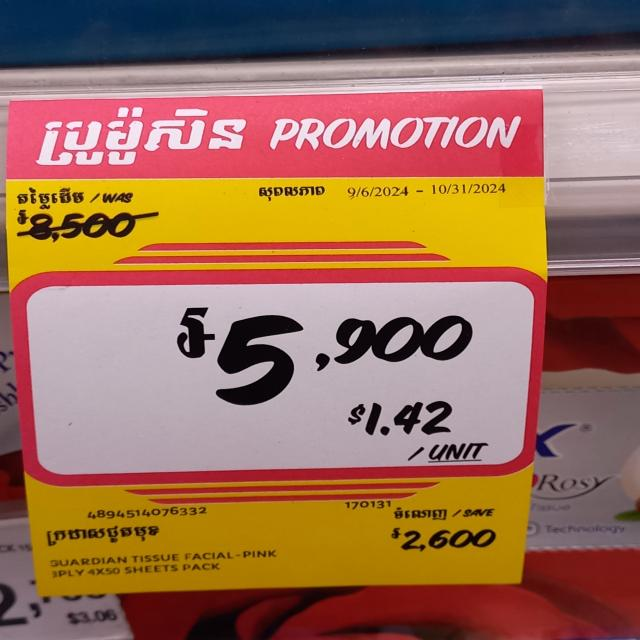521: (356, 395, 458, 440)
611: (343, 499, 392, 510)
687: (399, 527, 498, 554)
759: (78, 502, 209, 521)
795: (202, 303, 479, 415)
851: (22, 209, 139, 244)
877: (343, 181, 510, 202)
Yolov11kh: (25, 103, 265, 173), (45, 523, 164, 550), (15, 185, 88, 210), (255, 182, 328, 203), (391, 505, 450, 522)
